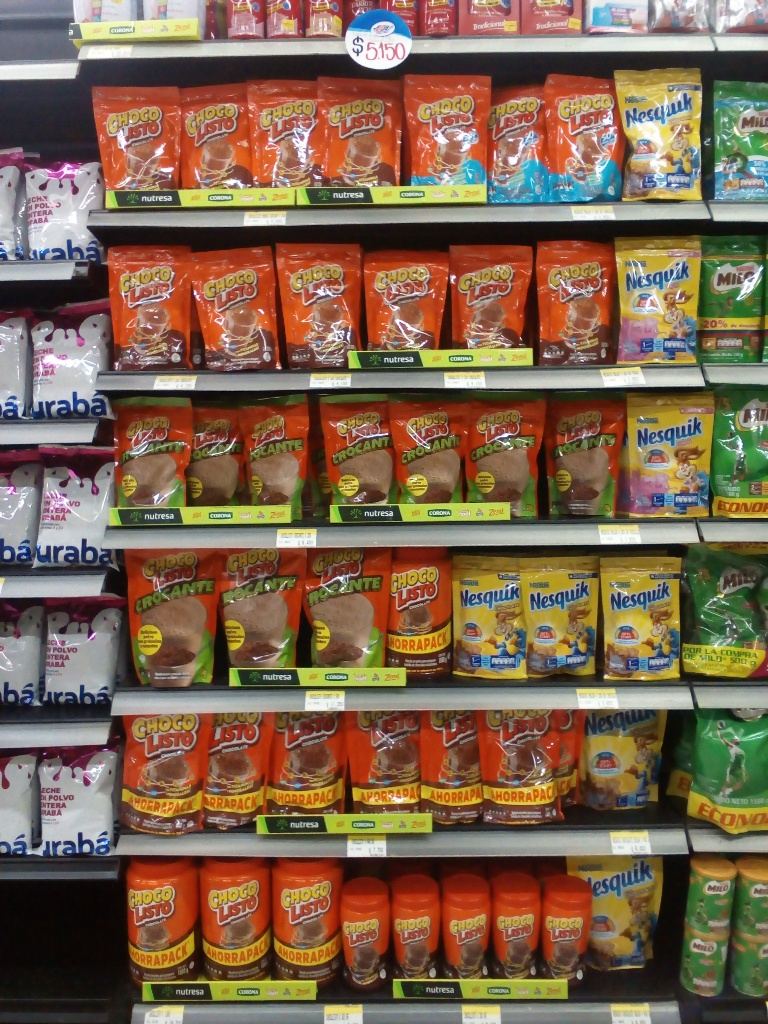COL0170102DYP25000: (540, 390, 626, 521)
COL0170102DYP50000: (300, 549, 391, 669)
COL0170103DYP20000: (319, 75, 401, 187)
COL0170103DYP40000: (475, 707, 567, 825)
COL0170103TRR00100: (268, 856, 345, 982)
COL0170103TRR30000: (536, 874, 593, 981)
COL0170104DYP20000: (546, 70, 630, 201)
COL0170203DYP25000: (700, 235, 764, 361)
COL0170203DYP50000: (686, 548, 767, 647)
COL0170203LAT20000: (677, 923, 729, 1001)
COL0170205DYP20000: (706, 72, 766, 203)
COL0170303DYP20000: (601, 556, 690, 682)
COL0170305DYP20000: (619, 237, 705, 365)
